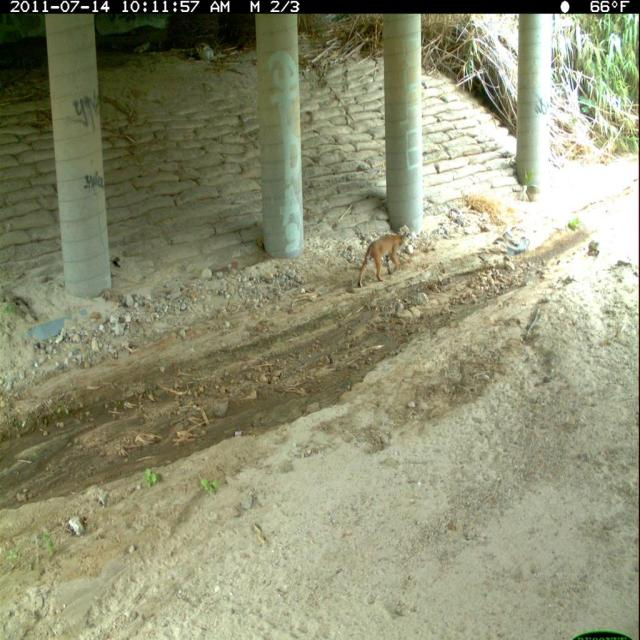bobcat: (354, 225, 413, 294)
